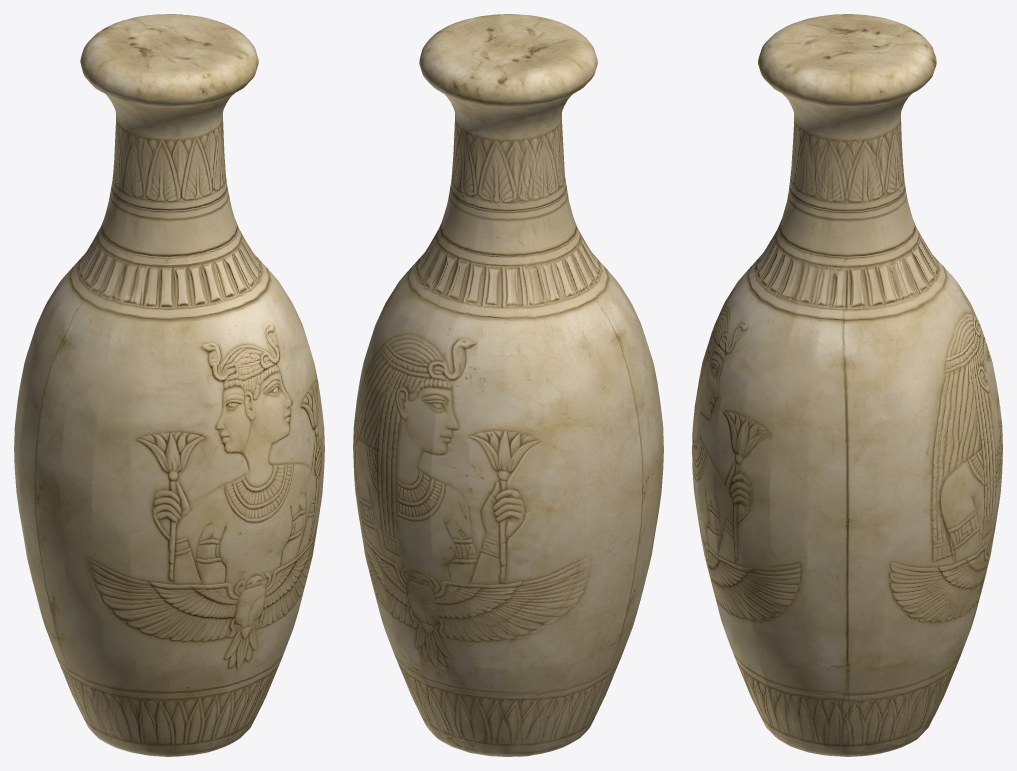
The model's file is WF_EgyptianTombV2_PerfumeFlask.fbx.
The picture shows the model from 3 angles, left to right: view 1: azimuth 30°, elevation 25°; view 2: azimuth 150°, elevation 25°; view 3: azimuth 270°, elevation 25°; orthographic projection.
Visible parts, largest first — view 1: Mesh1.0; view 2: Mesh1.0; view 3: Mesh1.0.
Boxes of the visible parts, x1=… form: Mesh1.0: x1=14, y1=14, x2=324, y2=756; Mesh1.0: x1=353, y1=14, x2=663, y2=756; Mesh1.0: x1=692, y1=14, x2=1002, y2=756.
Size of the model in its own units: 78.86 by 191 by 78.88.
Materials: 1 (1 with a texture image).
